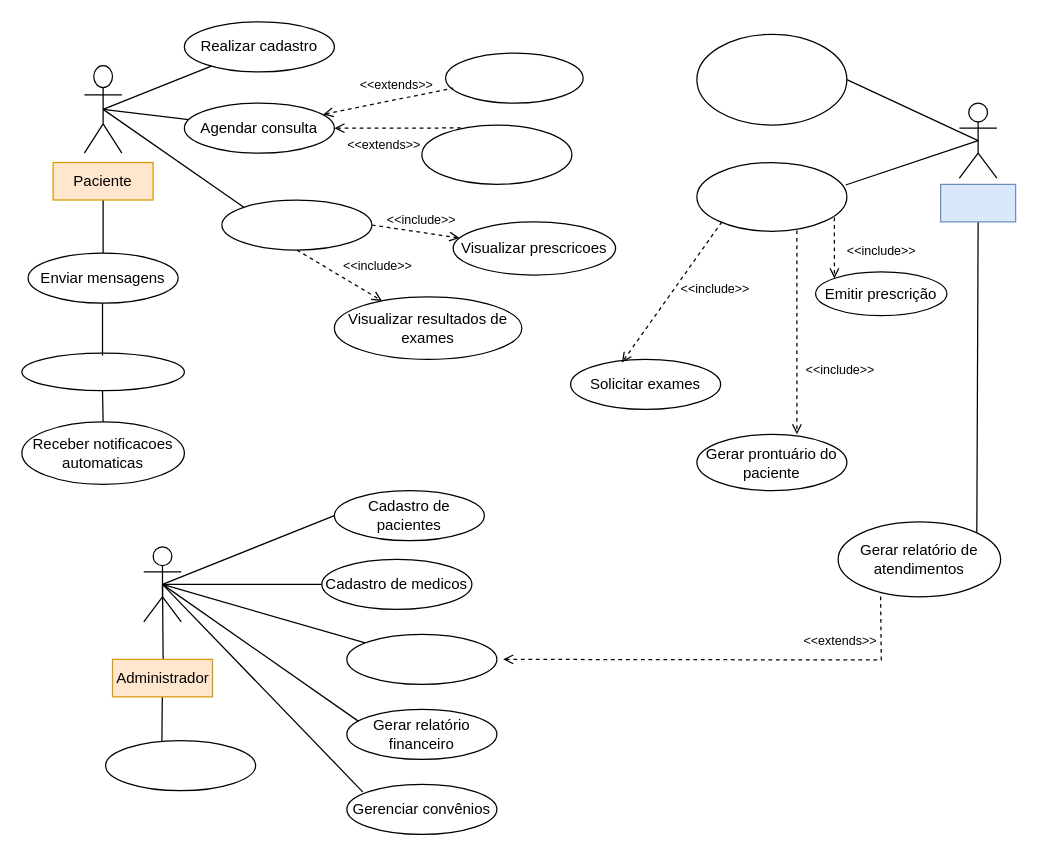
The diagram is 1038 pixels wide and 856 high, and some of its shapes have lost their labels. Each missing label, with the centre of its shape:
Acessar chat online: point 180,765
Acessar Histórico Médico: point 296,224
Avaliar atendimentos: point 102,371
Cancelar consulta: point 513,77
Consultar agenda de atendimentos: point 771,79
Gerar relatorios administrativos: point 421,658
Médico: point 977,202
Reagendar consulta: point 496,154
Registrar evolução médica: point 771,196
